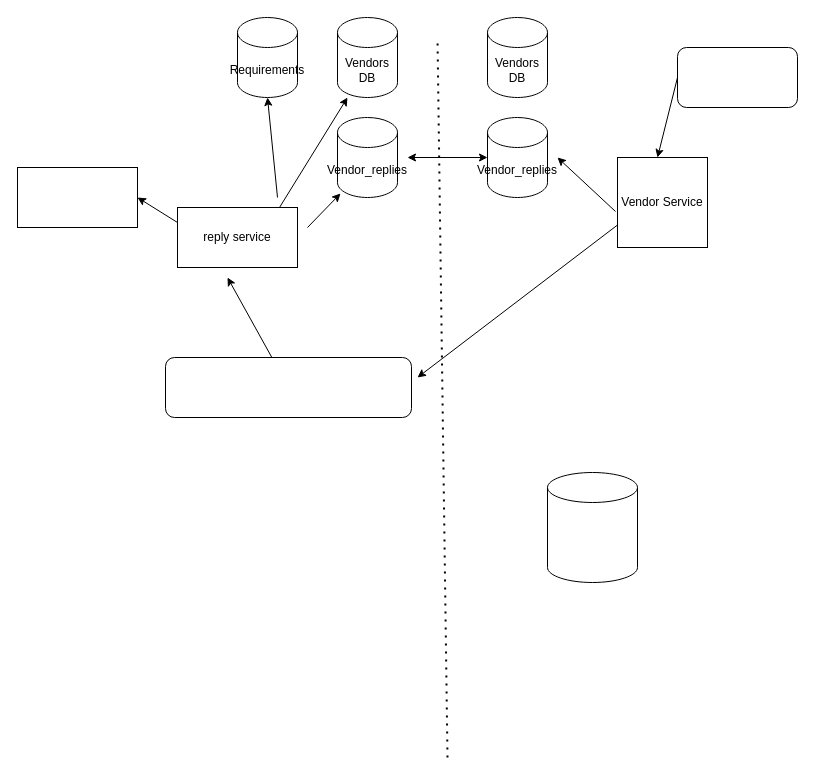
Image size: 815x777. Some labels were removed from this diagram. Here are the shapes that lost their labels. From the top down, the centre of each, then its label:
pixel 737 77: Vendor
pixel 77 197: User(EU)
pixel 288 387: Eventq (reply_id, vendor_id, user_id, event_id ,idempotency_key)
pixel 592 527: Event ( event_id, status, retry )
